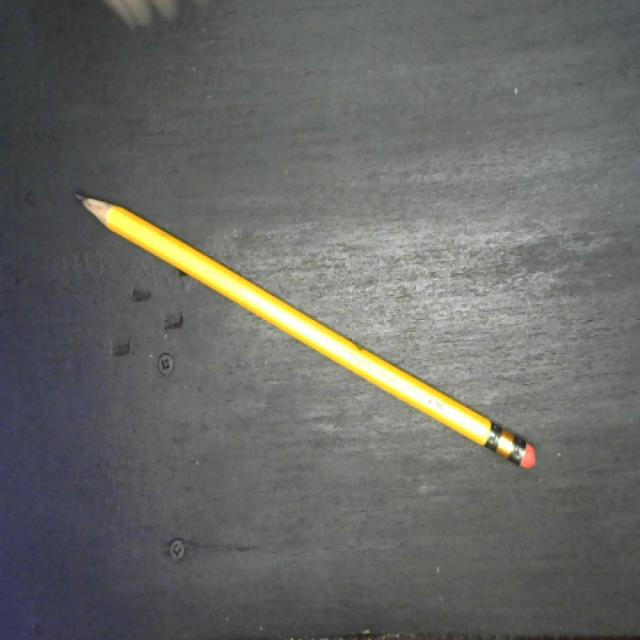biodegradable: (73, 186, 540, 476)
